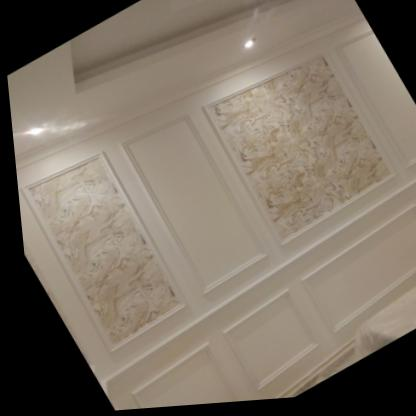Futec frame: (102, 9, 416, 410), (11, 133, 250, 416)
